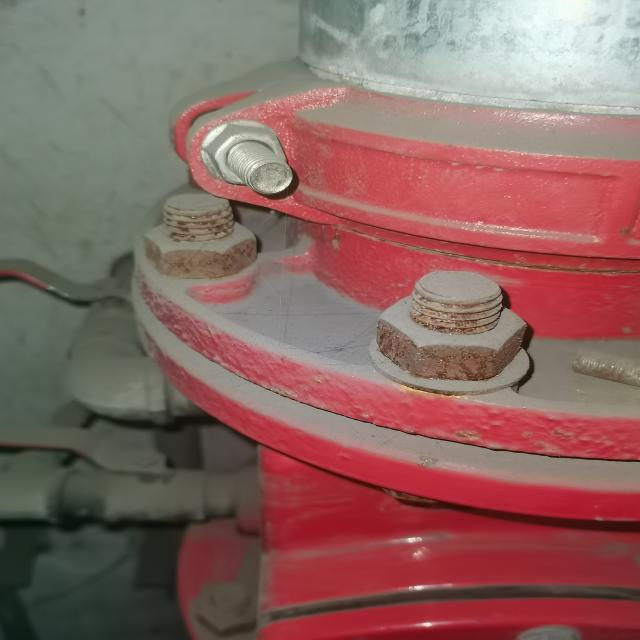blur bolt: (190, 576, 265, 636)
bolt nut: (371, 281, 532, 387), (135, 210, 265, 283), (200, 121, 294, 192)
